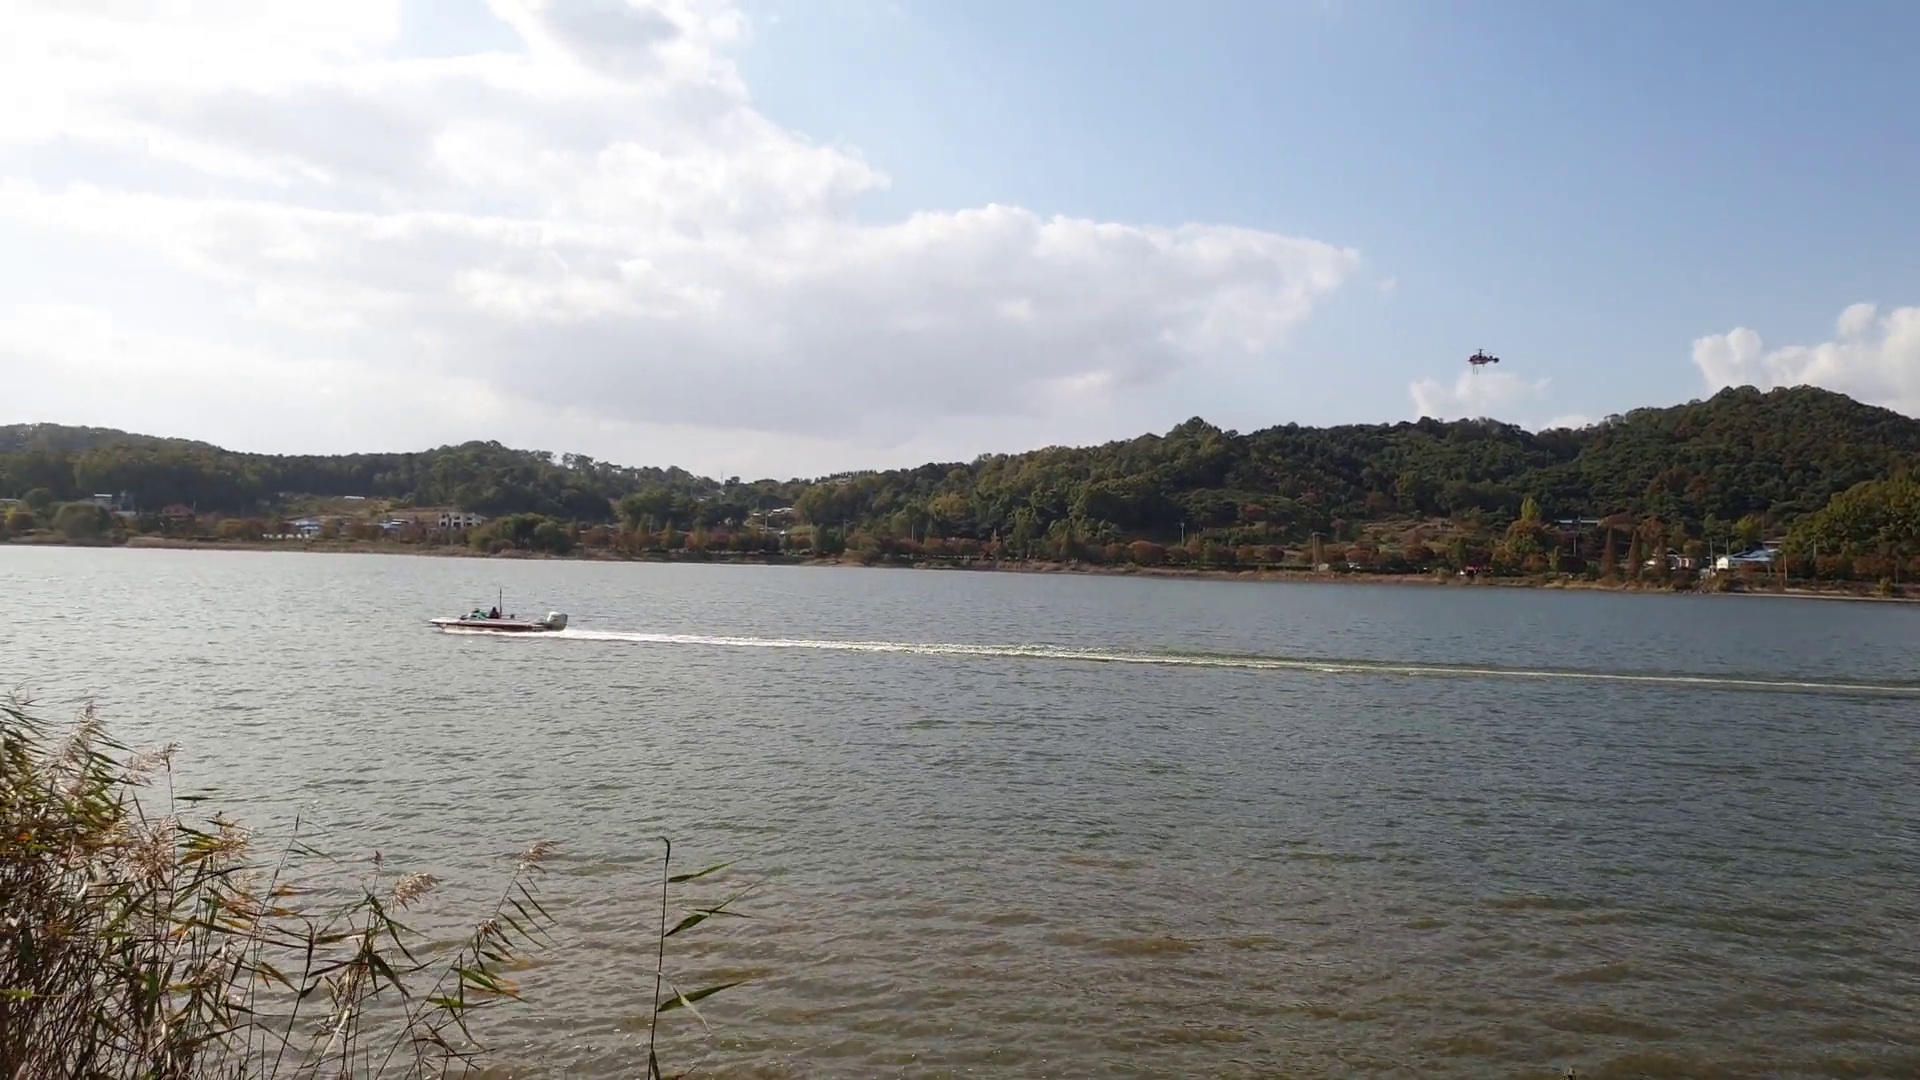heli: (1468, 347, 1501, 367)
